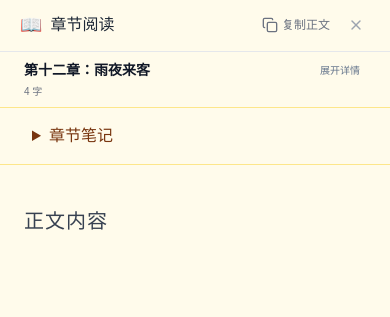
Test case: NodeDetailDrawer › stacks compact chapter metadata under the word count in App mode
This screenshot has width=390, height=317.
Expected: the text "出场角色" is not shown
Click the button "展开详情" at (340, 70), box [314,60,366,80]
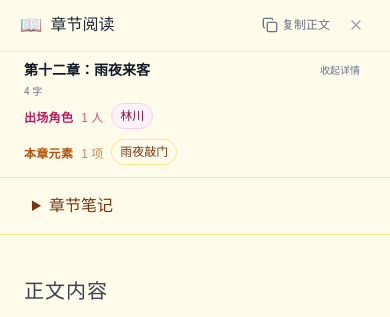
Expected: the heading "出场角色" is shown, [24,110,73,126]
